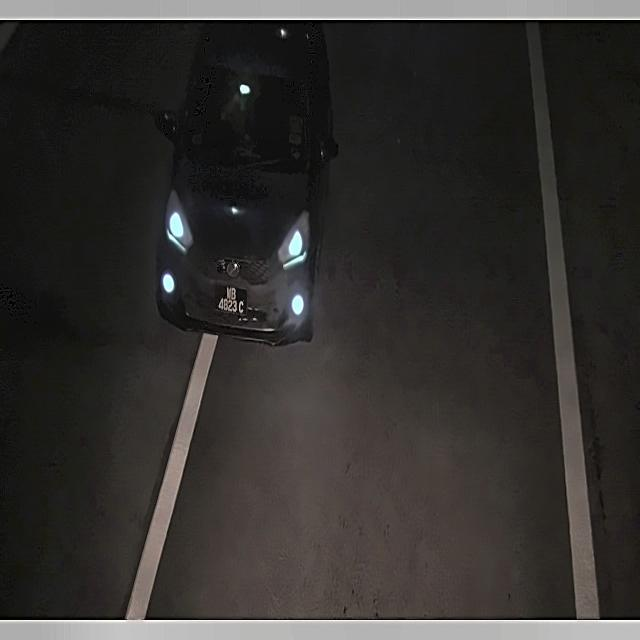car: (212, 279, 248, 322)
